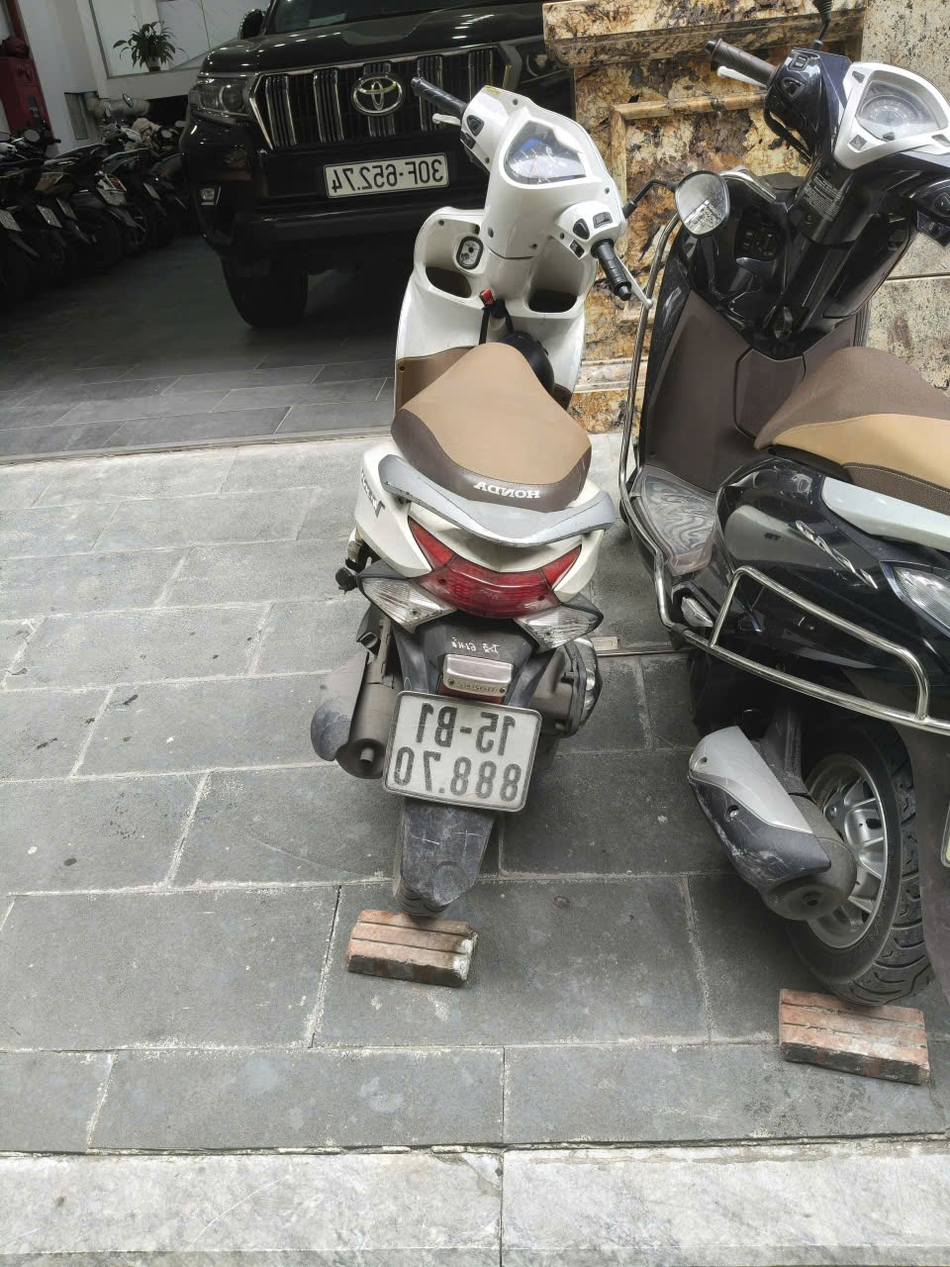plate: (300, 2, 464, 33)
